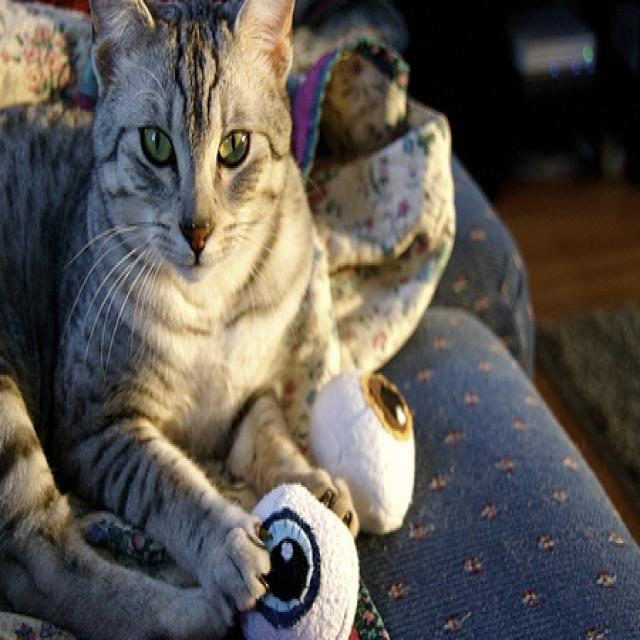Egyptian Mau: (0, 0, 361, 640)
